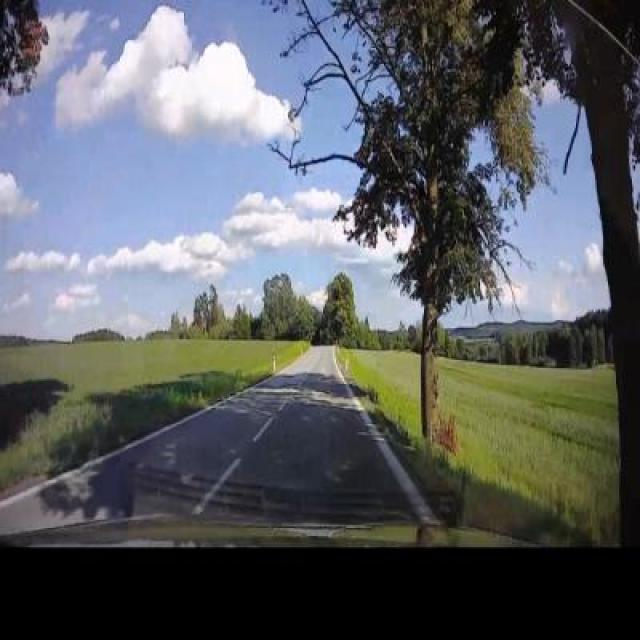clear-road: (134, 347, 400, 492)
